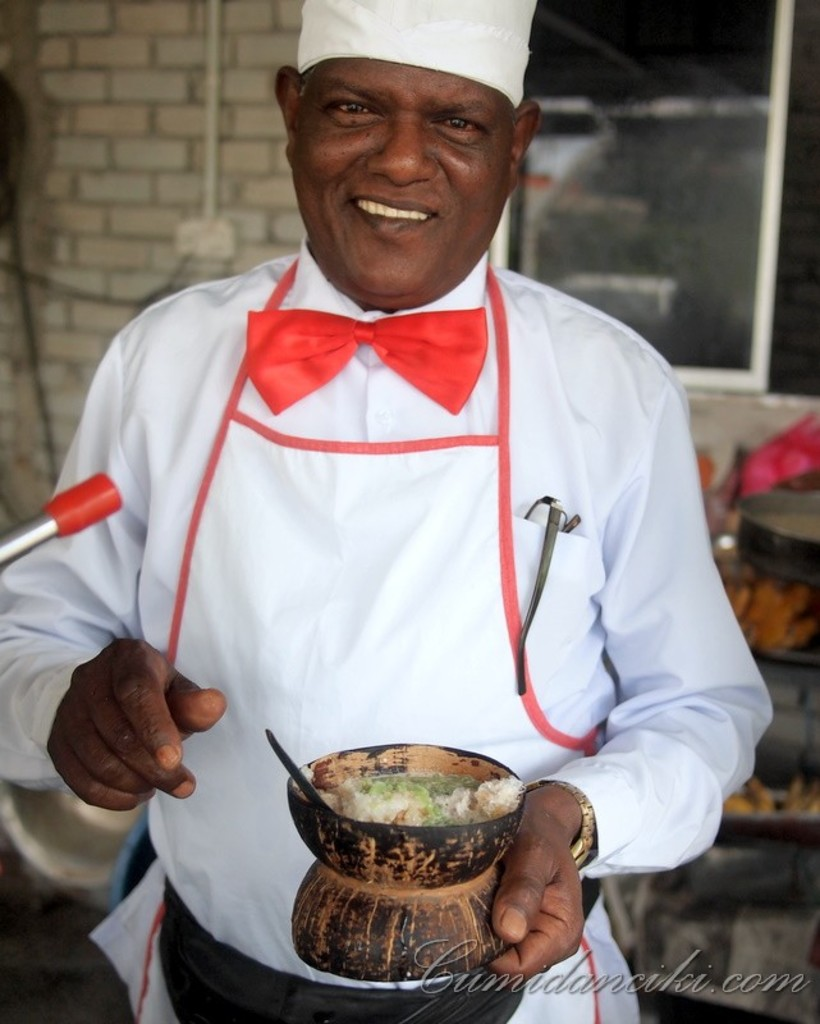Human-face: (285, 56, 507, 305)
